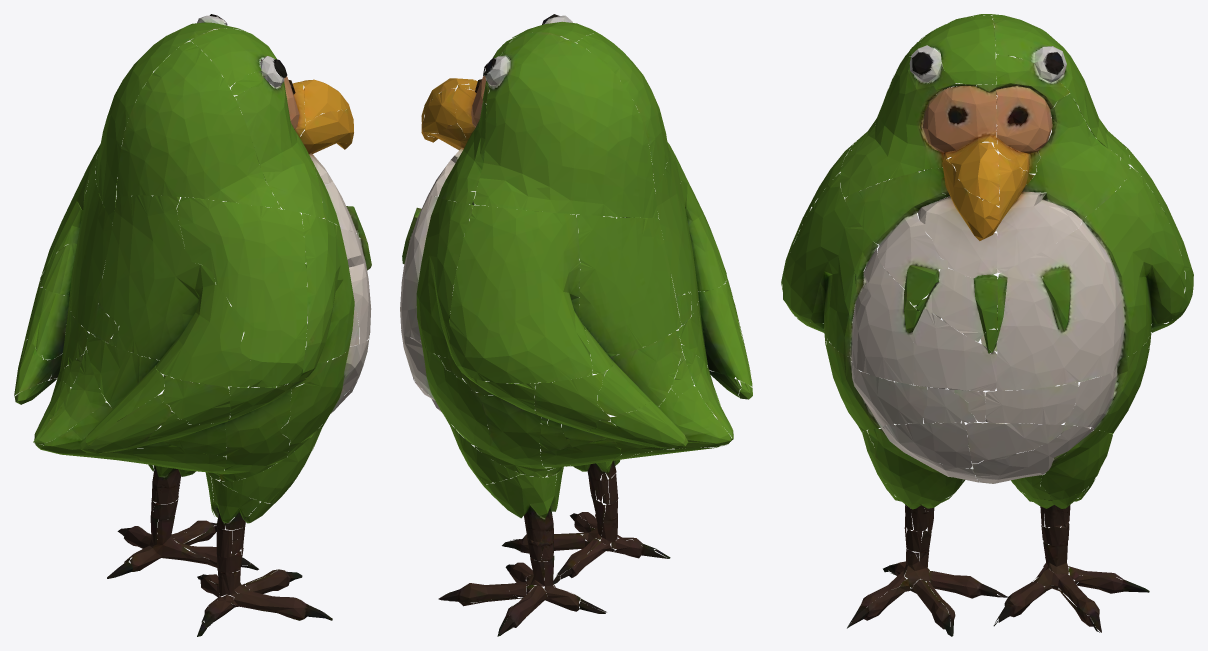
Rendered from perruche-verte.glb.
3 views of the same model, side by side, from view 1: azimuth 30°, elevation 25°; view 2: azimuth 150°, elevation 25°; view 3: azimuth 270°, elevation 25° (orthographic). The views are drawn at different scales.
Visible parts, largest first — view 1: tripo_node_bd644bb4-d9ca-421b-967a-9dca47914ba1; view 2: tripo_node_bd644bb4-d9ca-421b-967a-9dca47914ba1; view 3: tripo_node_bd644bb4-d9ca-421b-967a-9dca47914ba1.
Boxes of the visible parts, left/top/right/bottom form: tripo_node_bd644bb4-d9ca-421b-967a-9dca47914ba1: left=14, top=14, right=371, bottom=636; tripo_node_bd644bb4-d9ca-421b-967a-9dca47914ba1: left=400, top=14, right=752, bottom=636; tripo_node_bd644bb4-d9ca-421b-967a-9dca47914ba1: left=781, top=14, right=1193, bottom=636.
Size of the model in its own units: 0.5867 by 0.9814 by 0.6304.
Materials: 1 (1 with a texture image).
